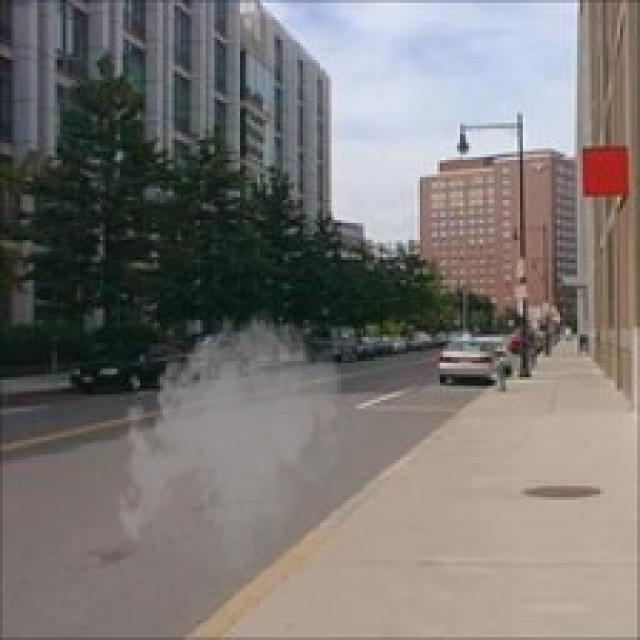Smoke: (111, 306, 366, 580)
